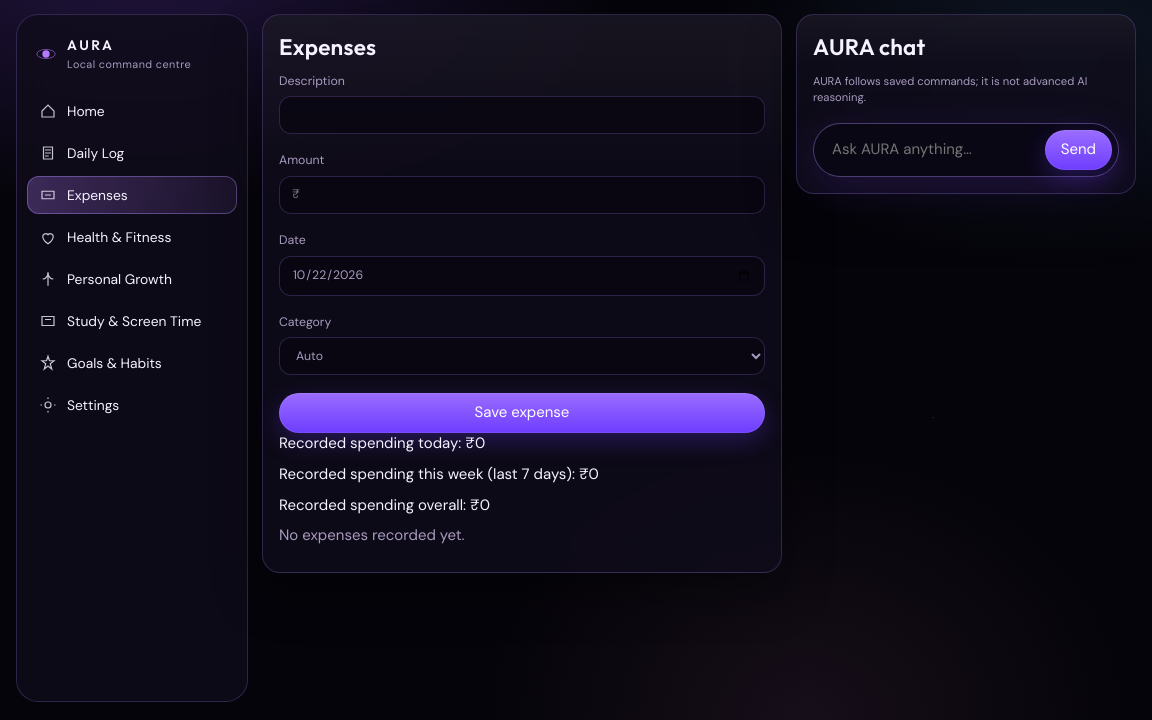
it: expense form create totals and invalid amount
Type "Metro" into the field labelled "Description". click: (522, 115)
box: [279,96,765,134]
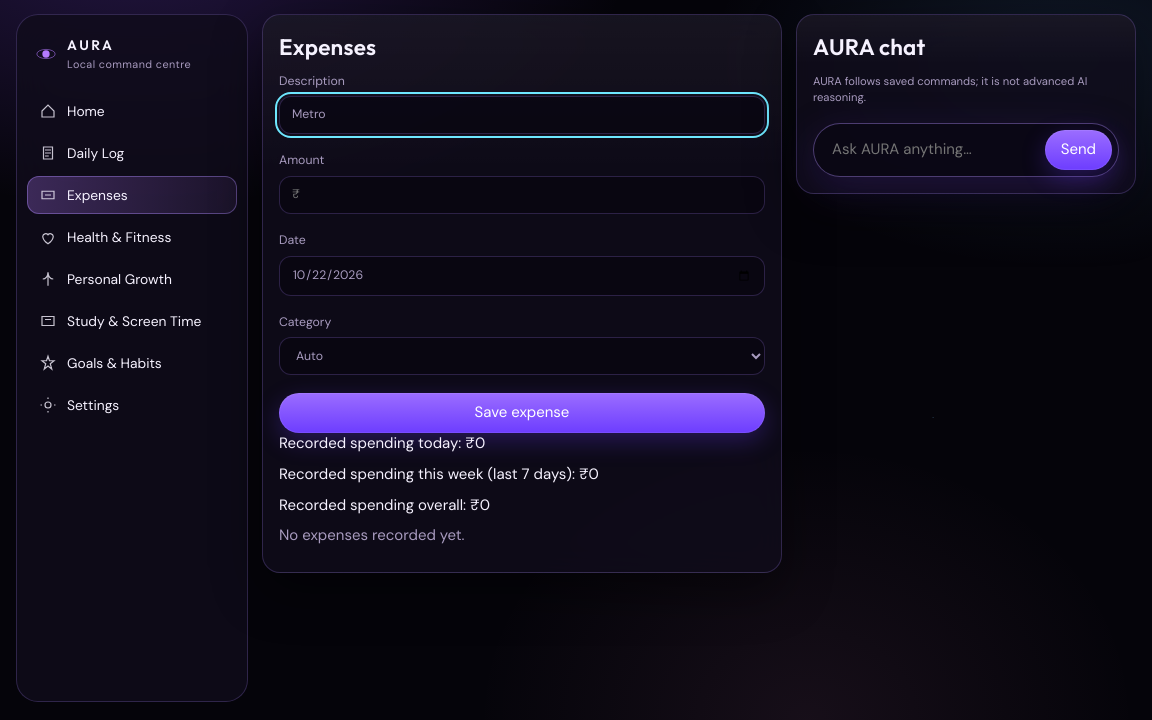
Type "50" into the field labelled "Amount". click: (522, 195)
box: [279,176,765,214]
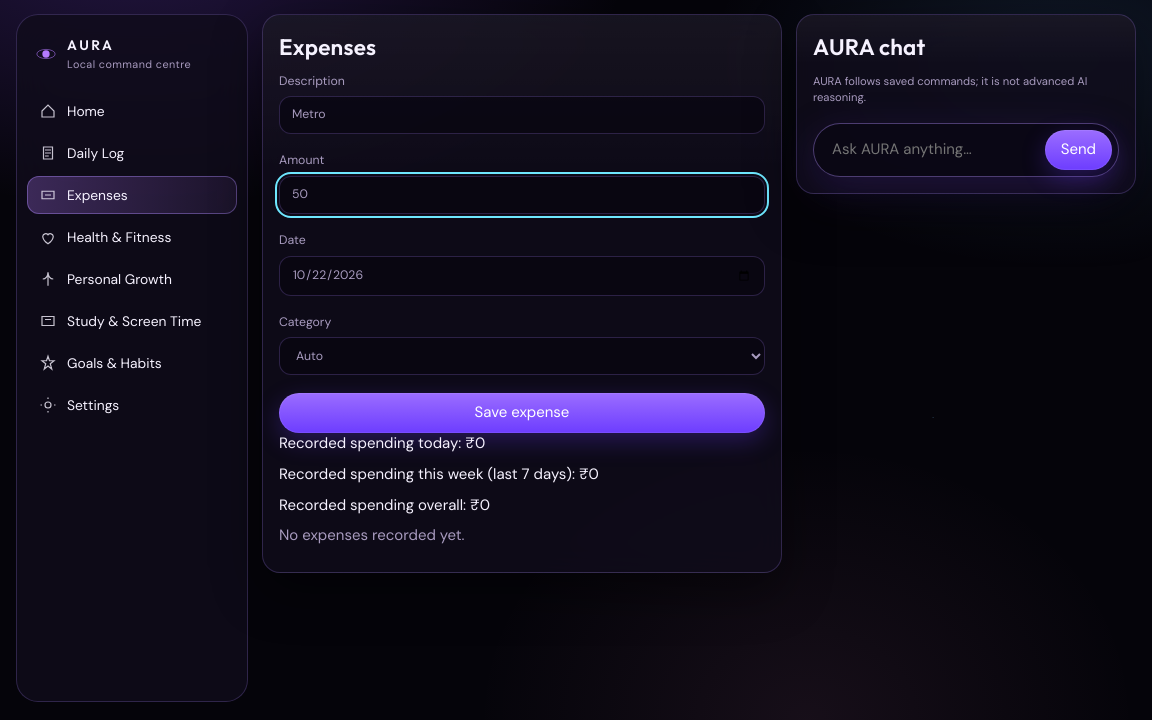
Click the button "Save expense". click: (522, 413)
box: [279,393,765,433]
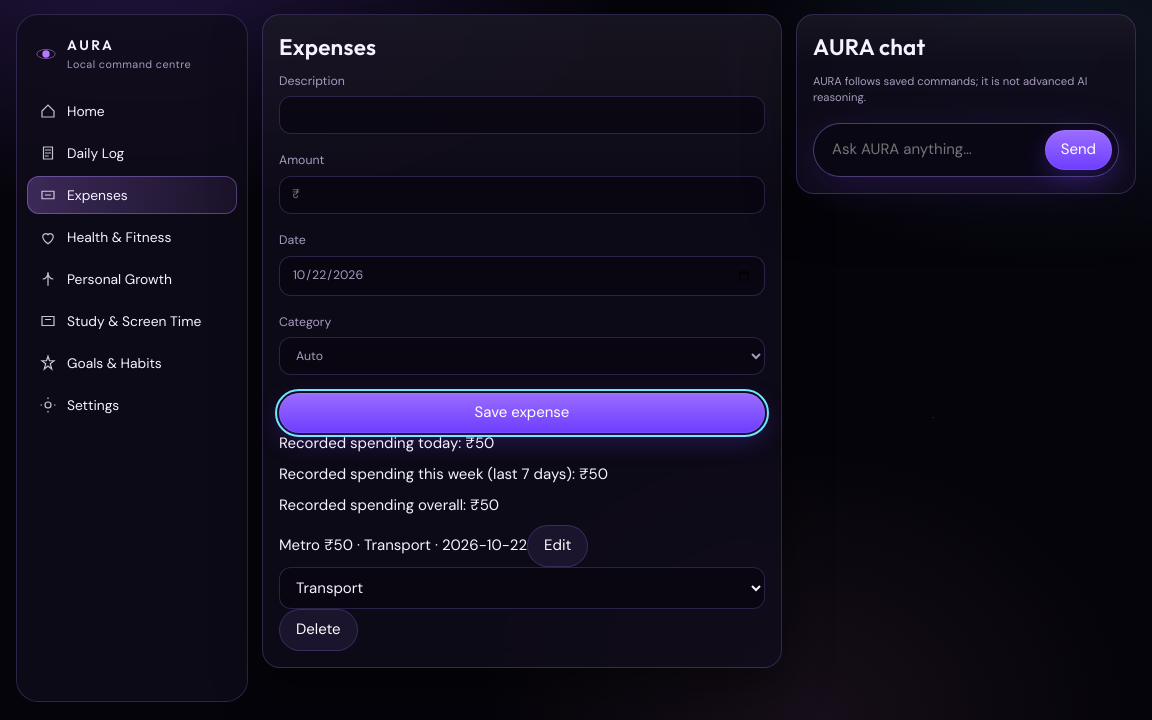
expect the text "Recorded spending today: ₹50" is shown: met, box [279,433,494,453]
Type "Bad" into the field labelled "Description". click: (522, 115)
box: [279,96,765,134]
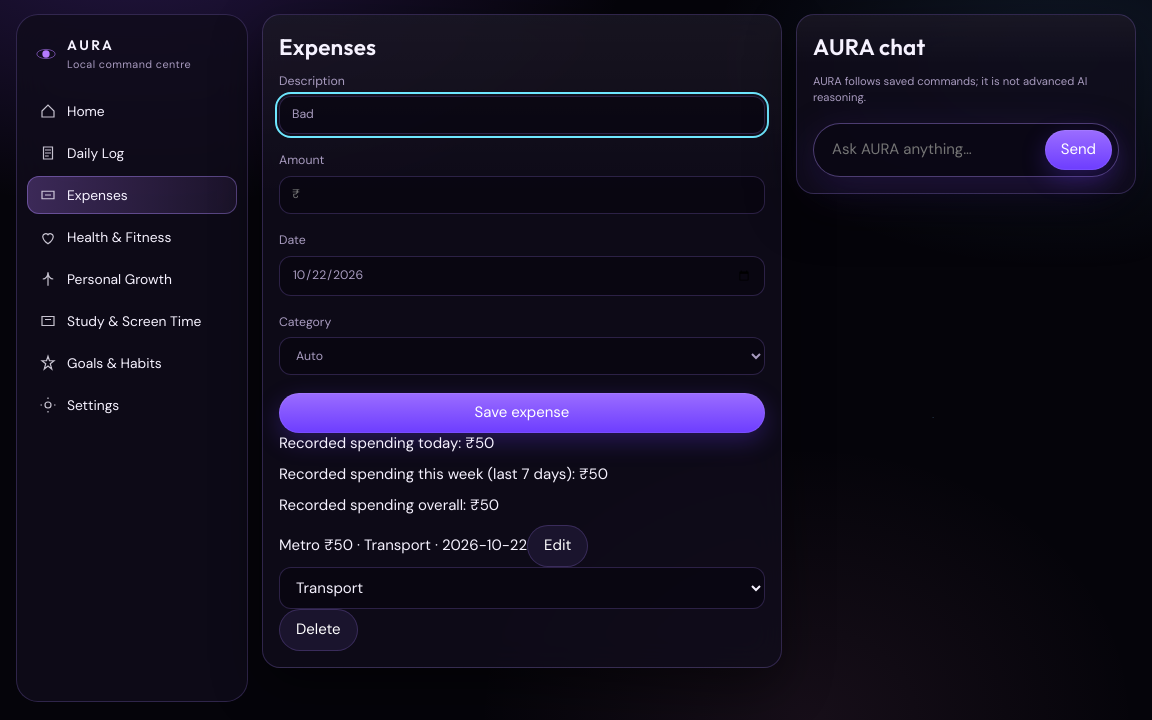
Type "0" into the field labelled "Amount". click: (522, 195)
box: [279,176,765,214]
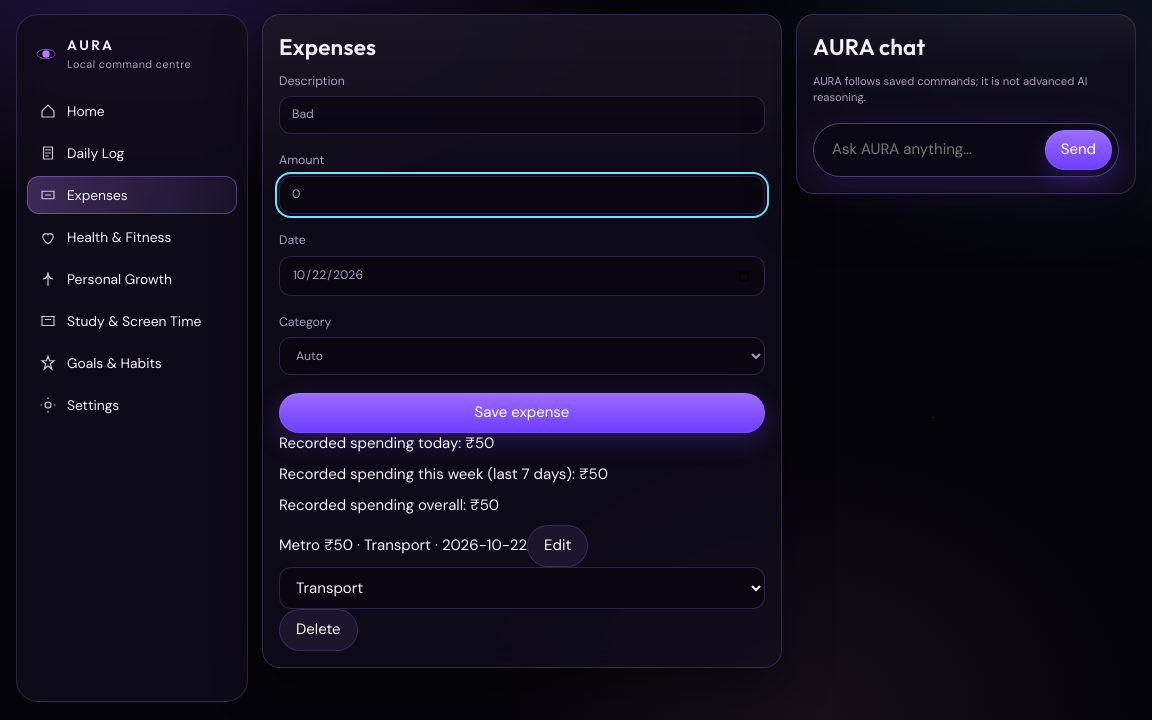
Click the button "Save expense". click: (522, 413)
box: [279,393,765,433]
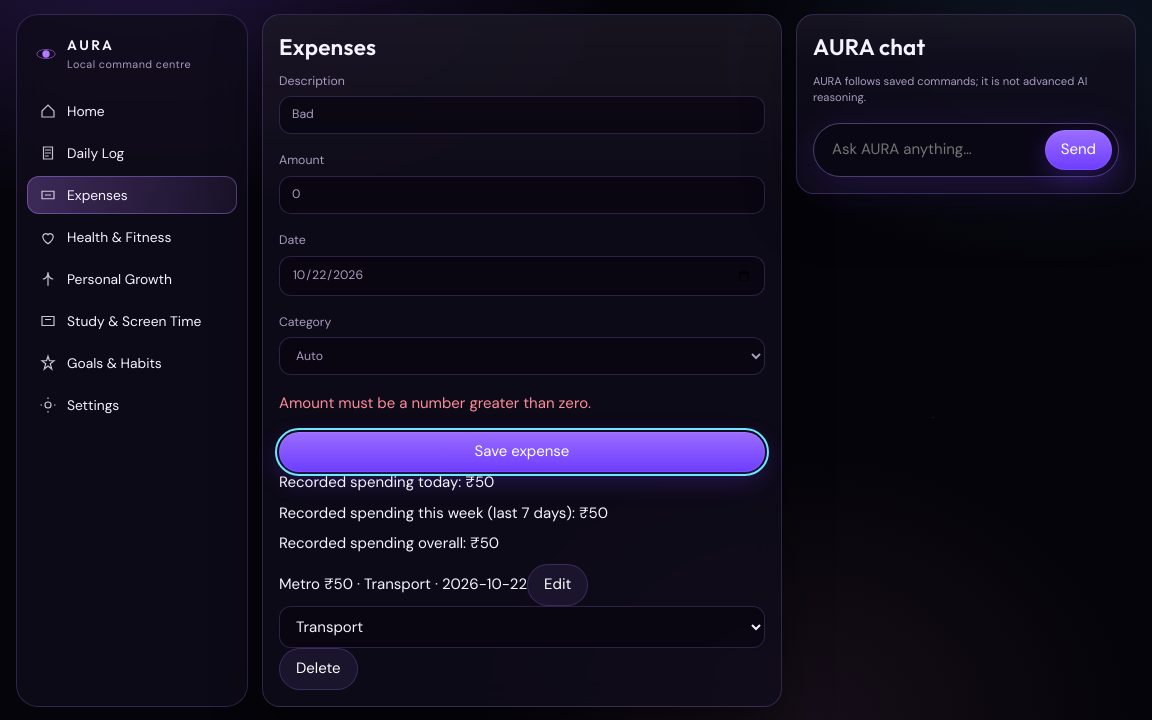
expect the text "Amount must be a number greater than zero." is shown: met, box [279,393,591,413]
